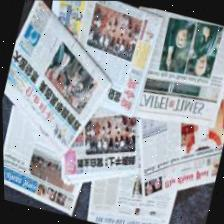paper: (0, 0, 136, 151), (119, 6, 224, 139), (125, 71, 224, 203), (76, 127, 187, 224), (2, 106, 96, 211)
